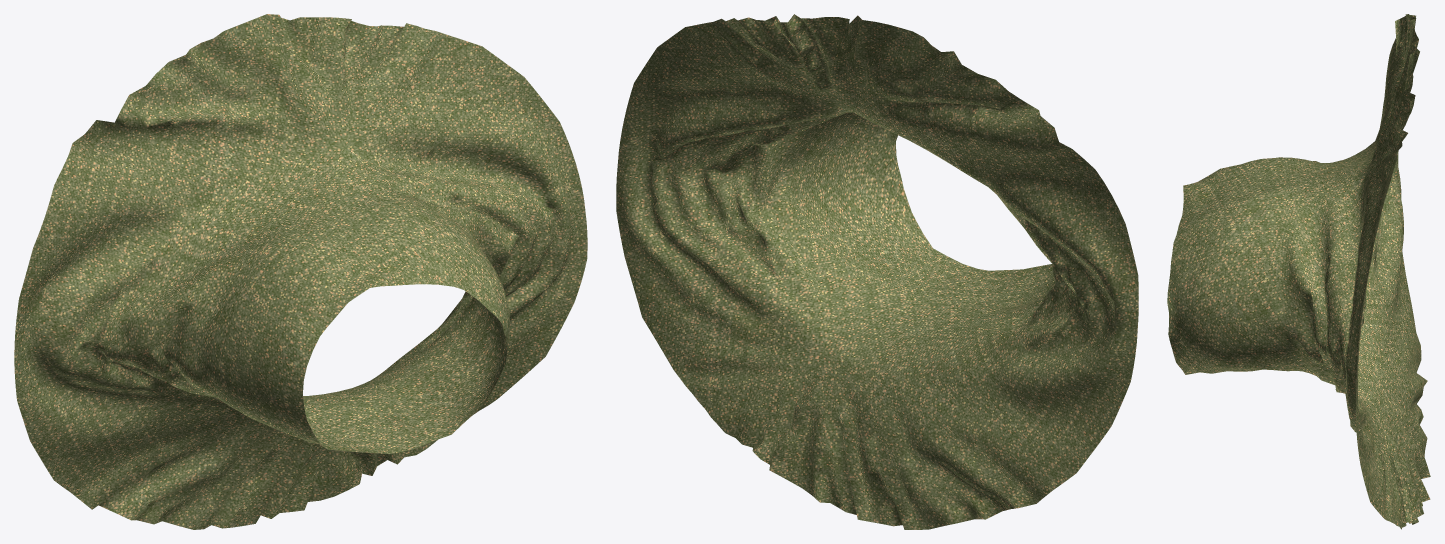
The model's file is skirt.obj.
3 renders of one model, left to right at view 1: azimuth 30°, elevation 25°; view 2: azimuth 150°, elevation 25°; view 3: azimuth 270°, elevation 25°, orthographic. The views are drawn at different scales.
Bounding box in the file's own units: 0.6387 × 0.5615 × 0.2893.
1 material, 1 textured.
